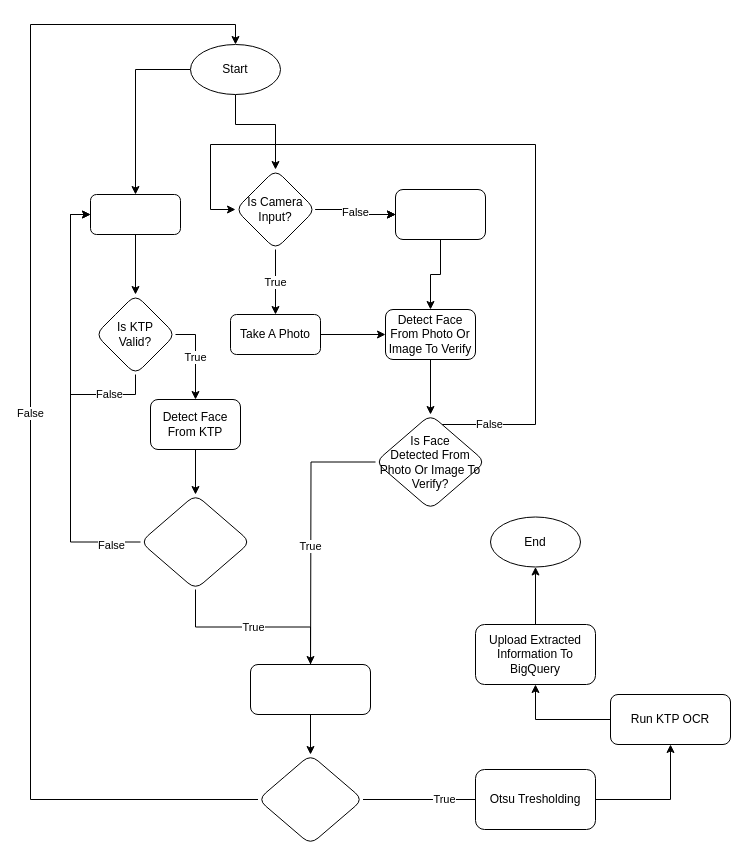
This 748x862 diagram has some shape labels left out. The centre of each missing label's shape, as x and y in pixels:
Face Verification (Cosine Similarity): point (310, 689)
Is Face Detected From KTP?: point (195, 542)
Is Verifed?: point (310, 799)
Upload Image To Verify: point (440, 214)
Upload KTP Image: point (135, 214)
